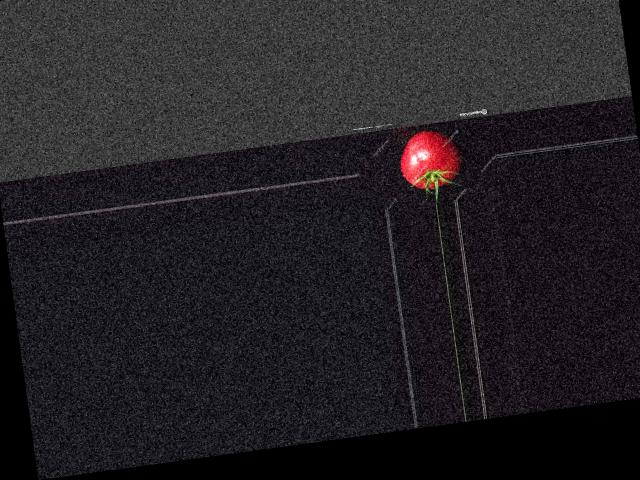tomato: (396, 126, 463, 192)
